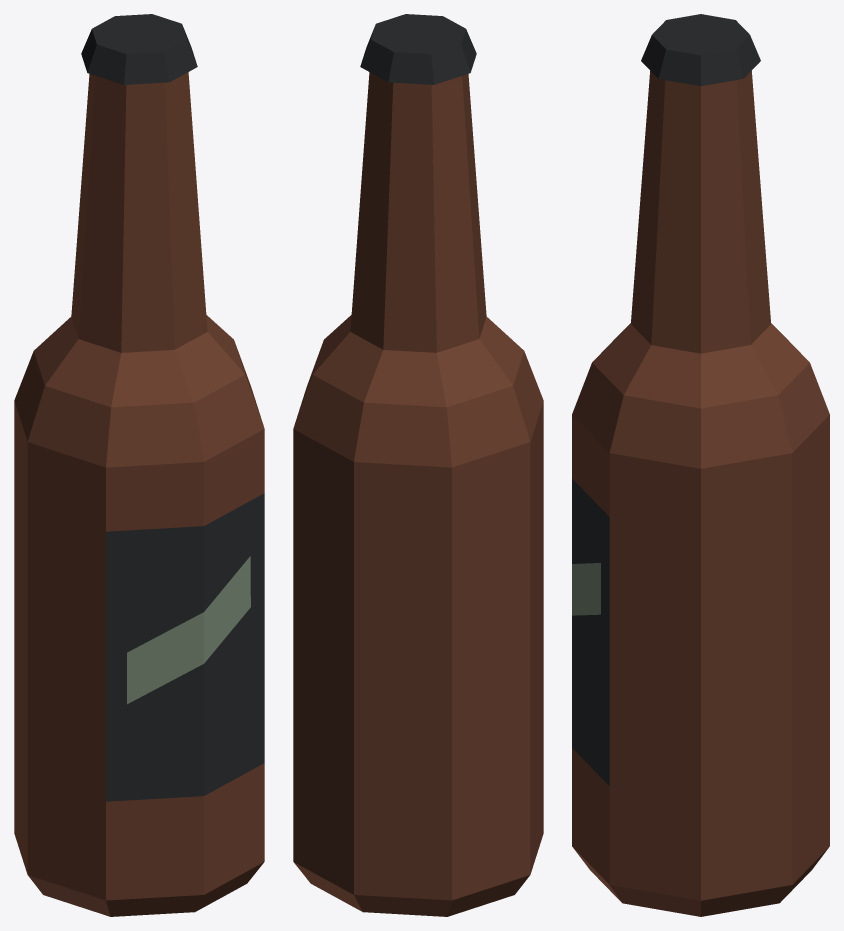
The model's file is SM_Prop_Bar_Bottle_01.glb.
3 views of the same model, side by side, from view 1: azimuth 30°, elevation 25°; view 2: azimuth 150°, elevation 25°; view 3: azimuth 270°, elevation 25° (orthographic).
Parts seen in each view (by area): view 1: SM_Prop_Bar_Bottle_01; view 2: SM_Prop_Bar_Bottle_01; view 3: SM_Prop_Bar_Bottle_01.
Part boxes in pixels (x1=…): SM_Prop_Bar_Bottle_01: x1=14, y1=14, x2=264, y2=916; SM_Prop_Bar_Bottle_01: x1=293, y1=14, x2=543, y2=916; SM_Prop_Bar_Bottle_01: x1=572, y1=14, x2=829, y2=916.
Bounding box in the file's own units: 0.0938 × 0.3354 × 0.0939.
1 material, 1 textured.
